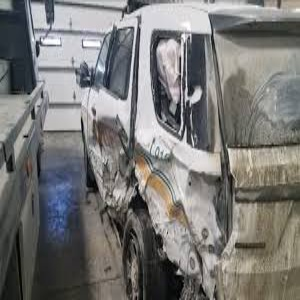door: (84, 114, 148, 208)
